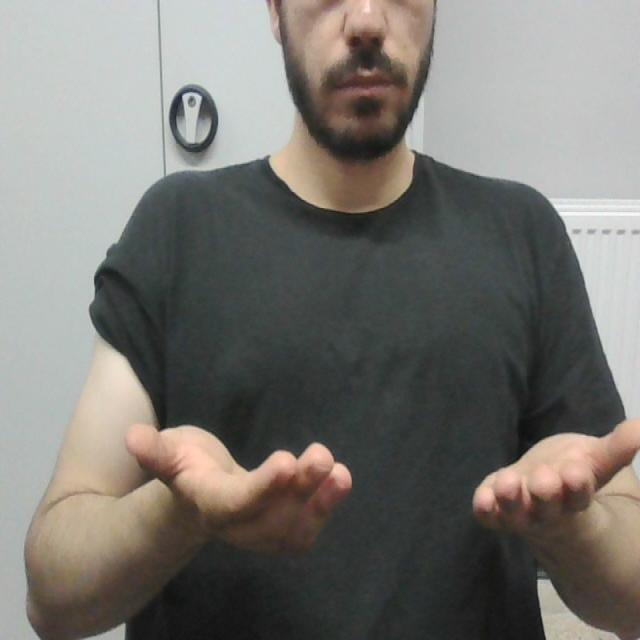Evet: (122, 407, 640, 561)
